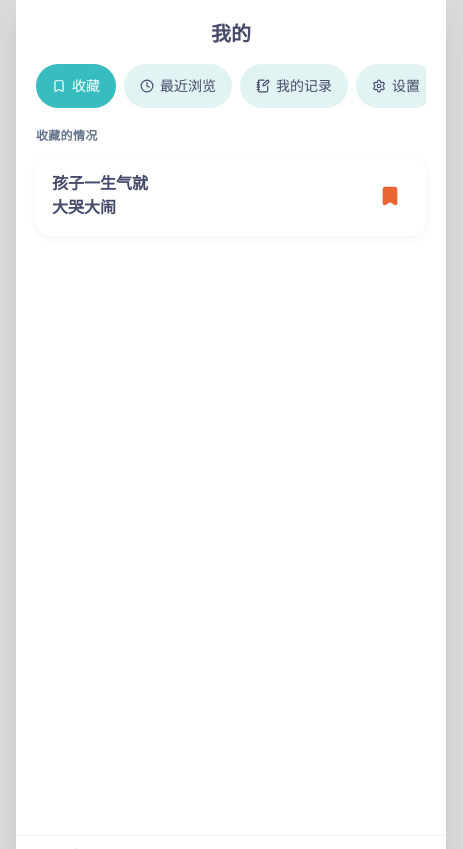
My Space saved tab › navigates to a saved situation's page when clicked
The width and height of the screenshot is (463, 849).
Click the button "孩子一生气就 大哭大闹" at (100, 184), box [52, 172, 370, 220]
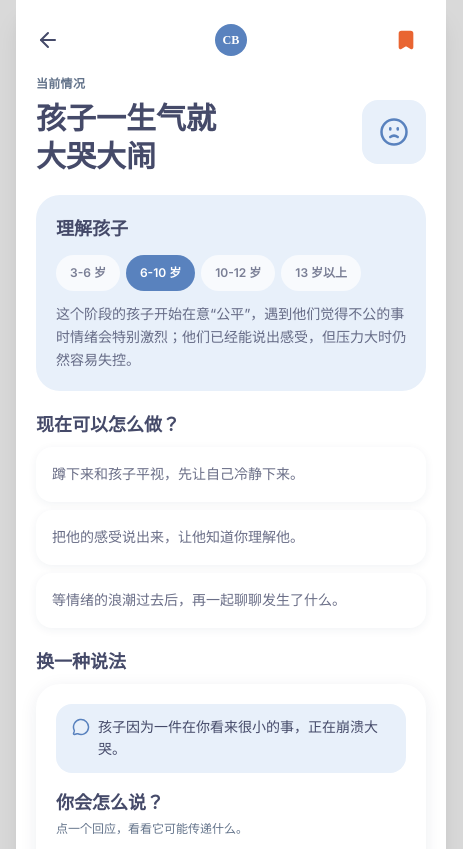
Check: the text "当前情况" is shown, box [36, 76, 85, 91]
